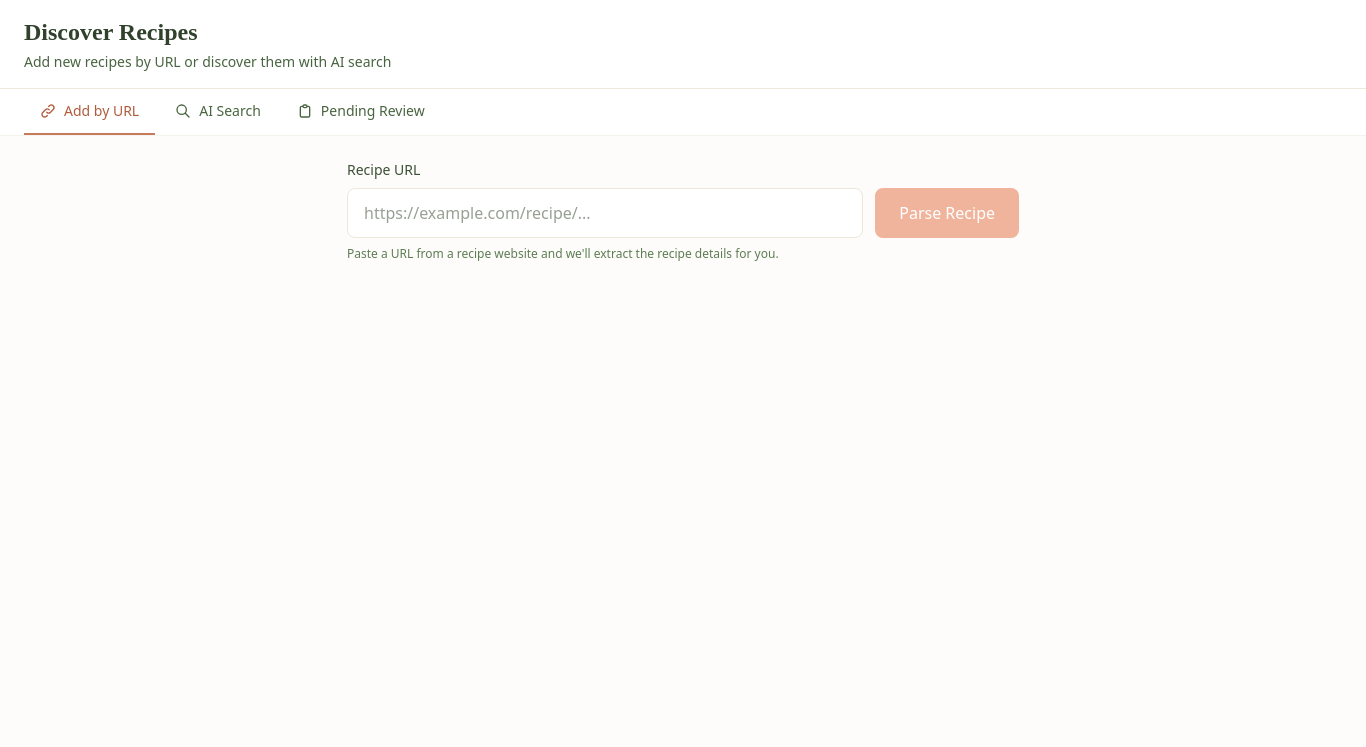
Test: DiscoverPage › AI Search › displays discovered recipes
The width and height of the screenshot is (1366, 747).
Step 1. Click the button "AI Search" → (218, 112), box [159,89,277,135]
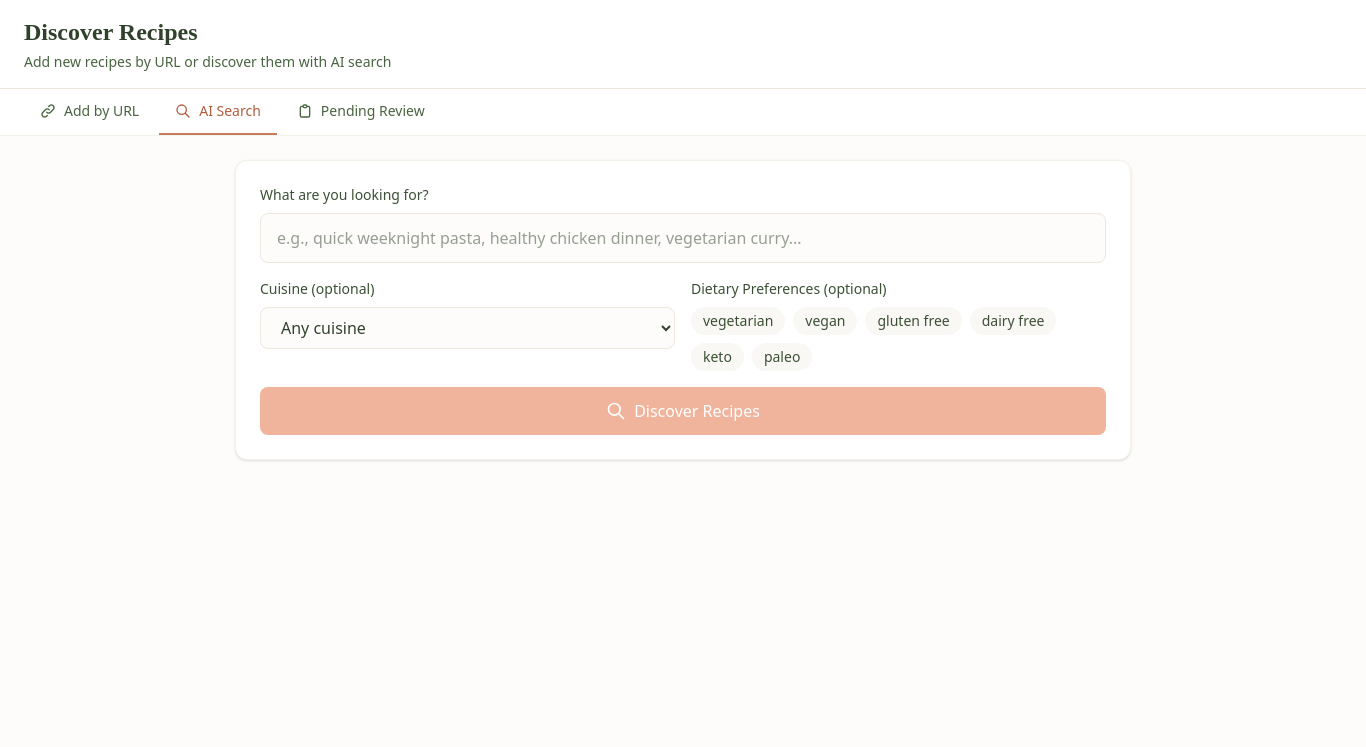
Step 2. Replace the text in the field with placeholder "quick weeknight pasta" with "pasta" → (683, 238), box [260,213,1106,263]
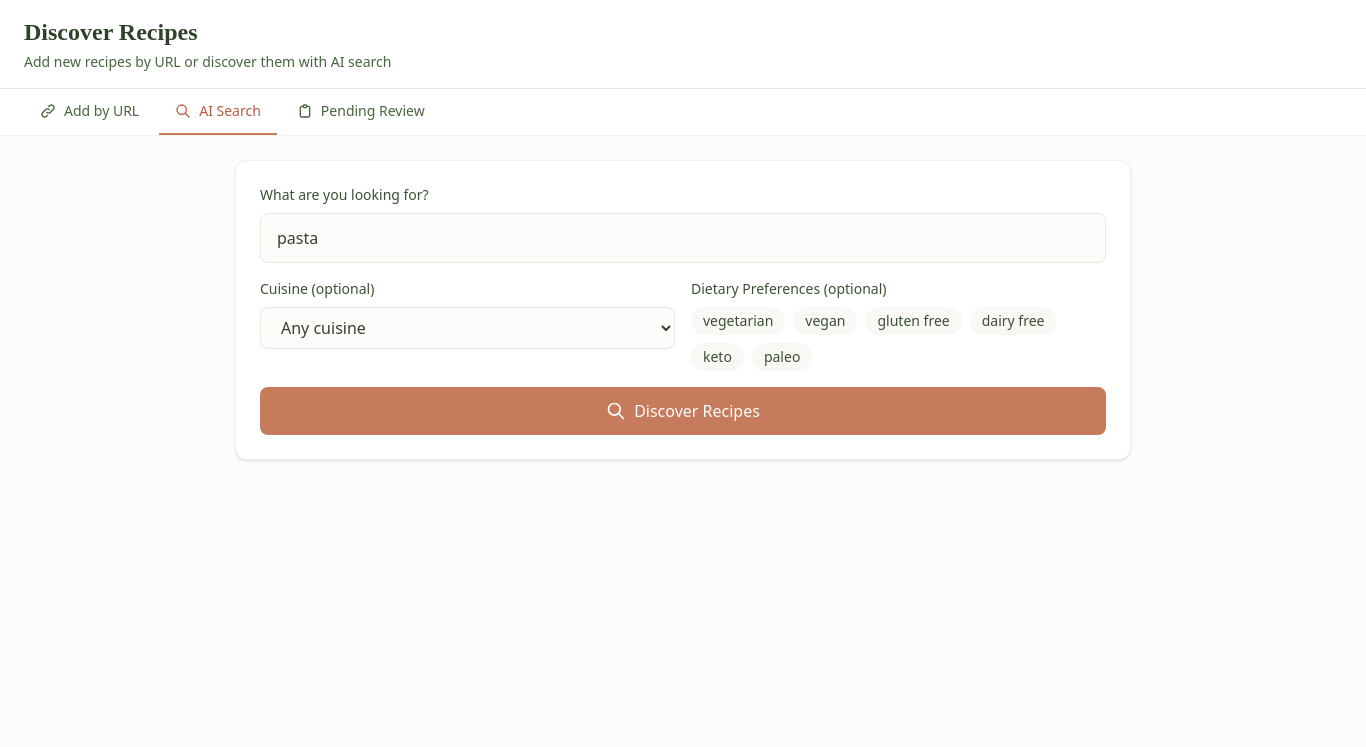
Step 3. Click the button "Discover Recipes" → (683, 411), box [260,387,1106,435]
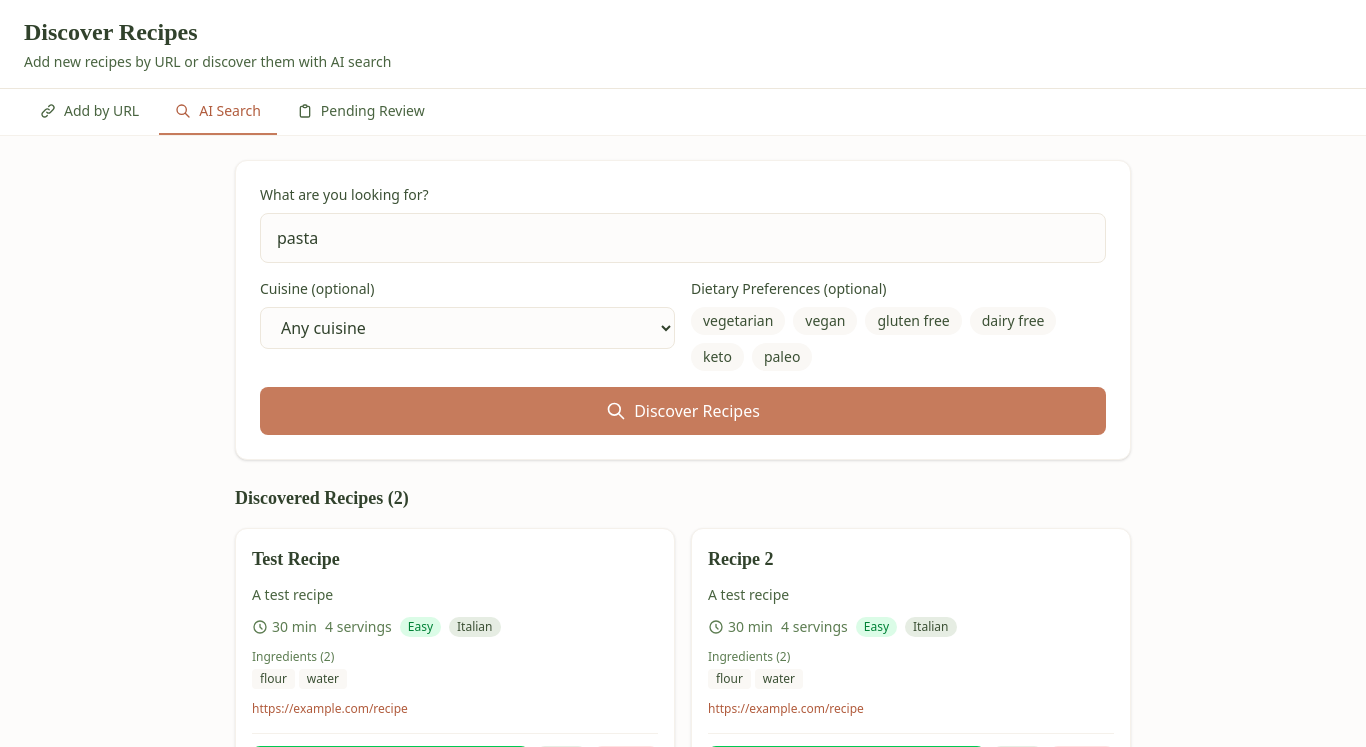
Now the heading "Test Recipe" is shown, box [252,545,340,573]
Now the heading "Recipe 2" is shown, box [708,545,774,573]
